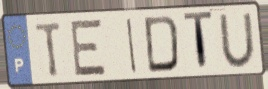D: (143, 13, 181, 75)
E: (70, 17, 108, 79)
I: (125, 16, 139, 77)
T: (181, 9, 214, 75), (33, 20, 64, 80)
U: (216, 11, 258, 70)
